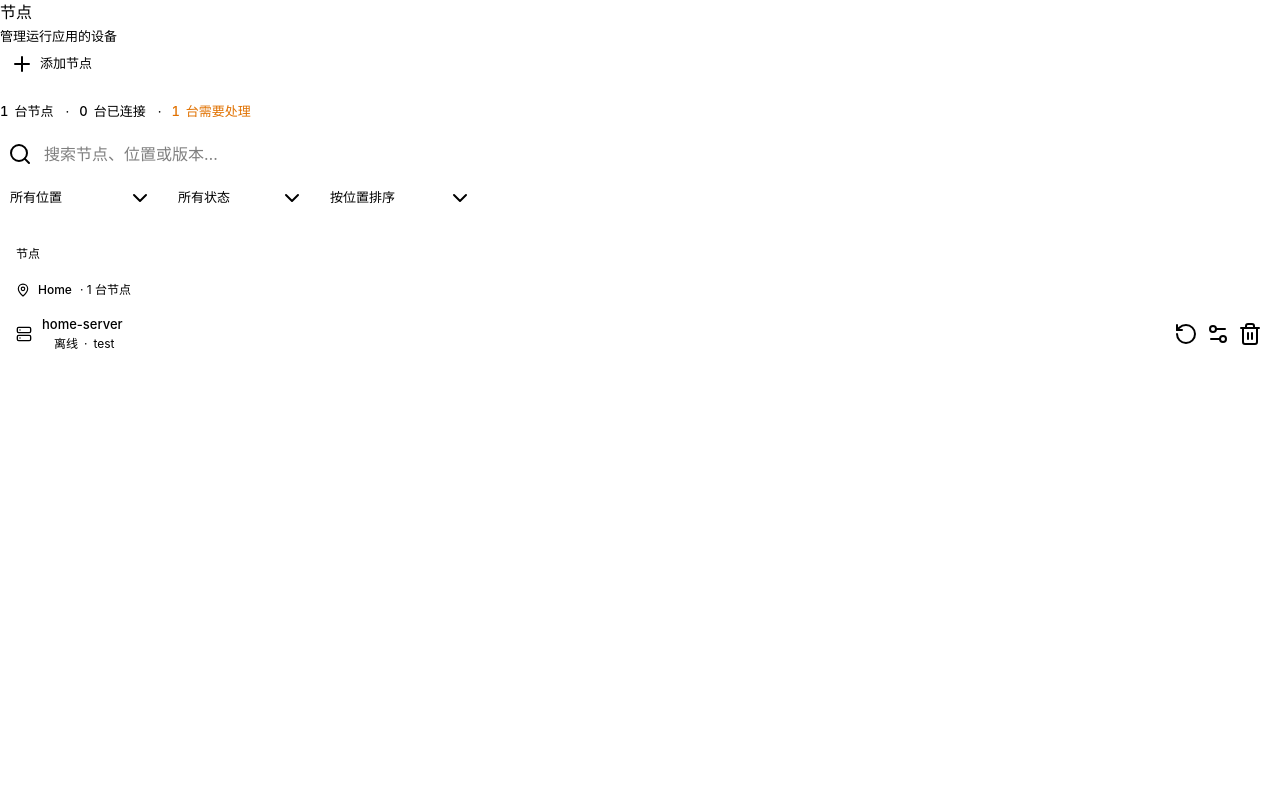
Test: node reinstall review › identifies related work on other hosts before replacement
The image size is (1280, 800).
Click the button named "重新接入 home-server".
click(1186, 334)  # box [1172,320,1200,348]
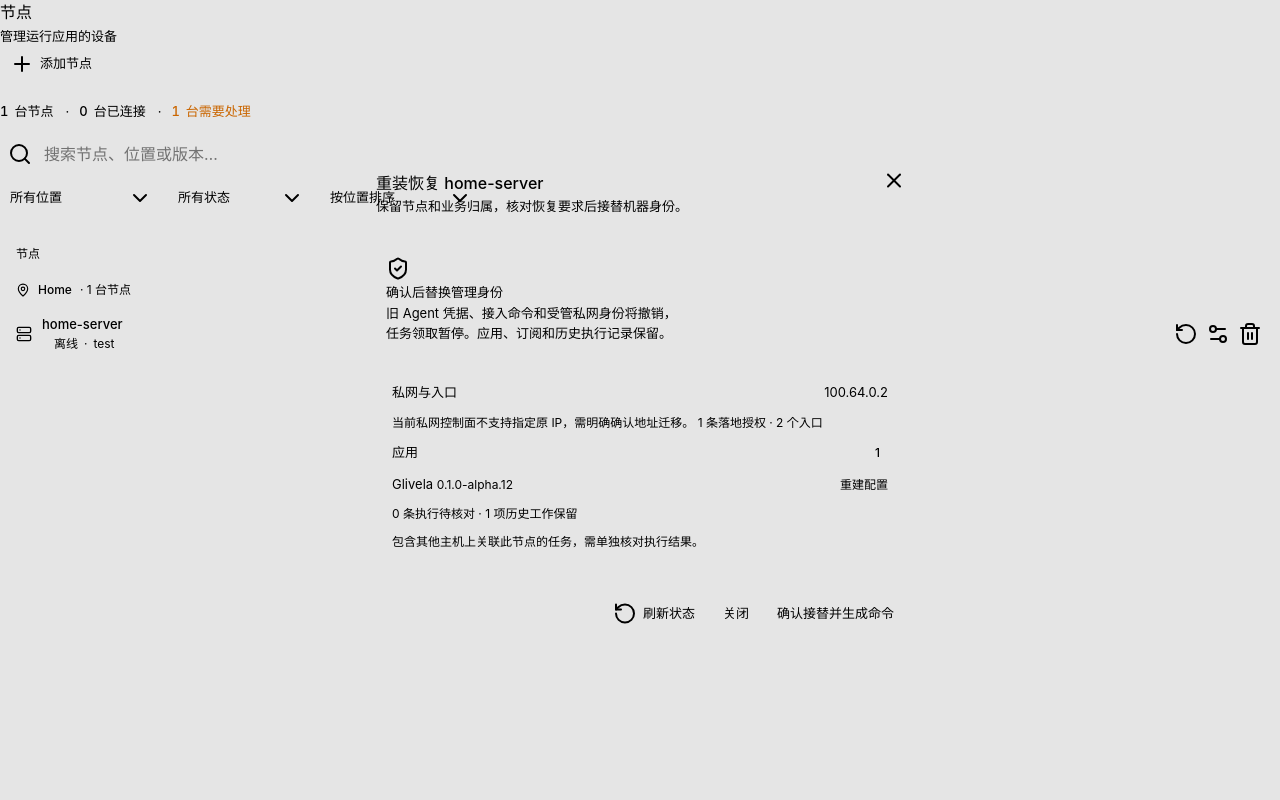
Now the text "包含其他主机上关联此节点的任务" is shown, box [392,534,704,548]
